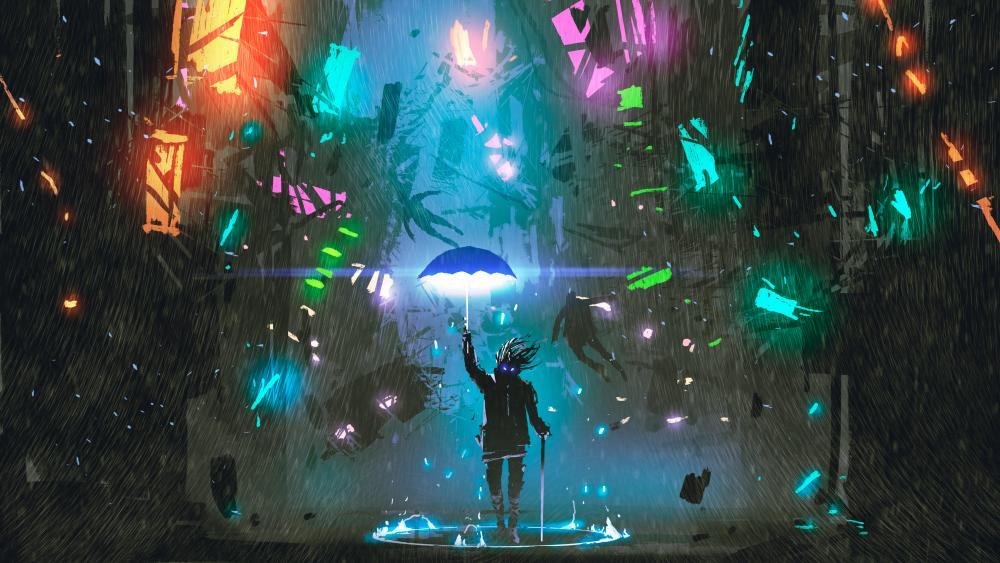Figure: (463, 338, 552, 549)
Umbrella: (413, 245, 528, 299)
